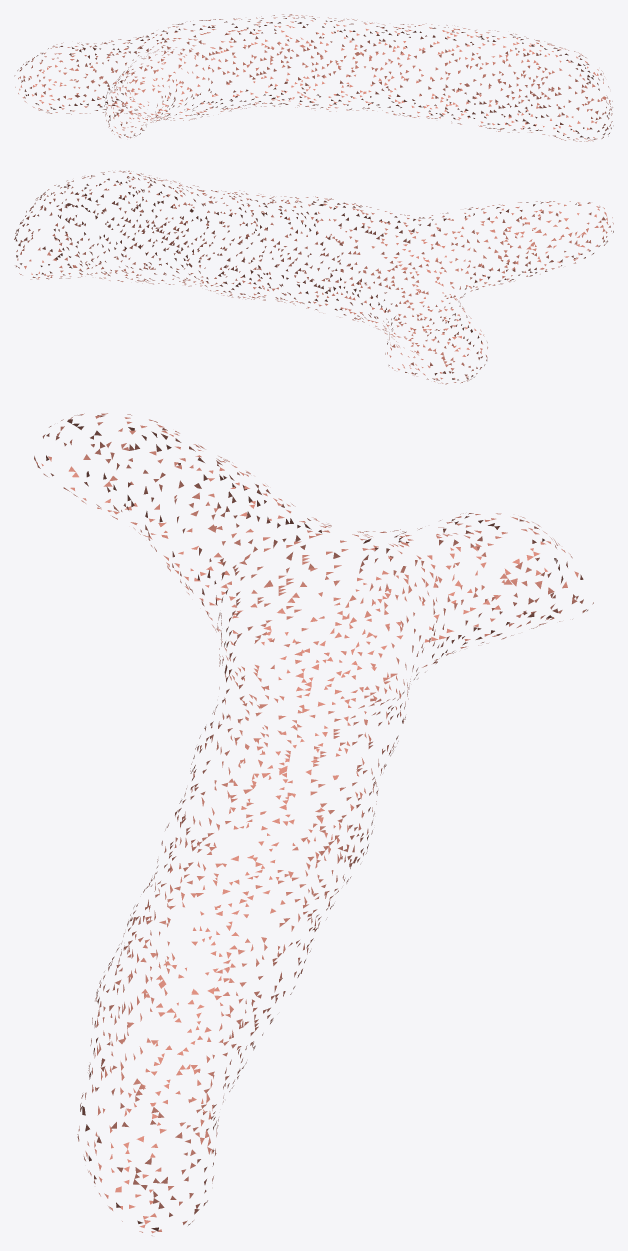
The model's file is morph_002.glb.
3 renders of one model, top to bottom at view 1: azimuth 30°, elevation 25°; view 2: azimuth 150°, elevation 25°; view 3: azimuth 270°, elevation 25°, orthographic. The views are drawn at different scales.
Bounding box in the file's own units: 112 × 36.63 × 52.6.
